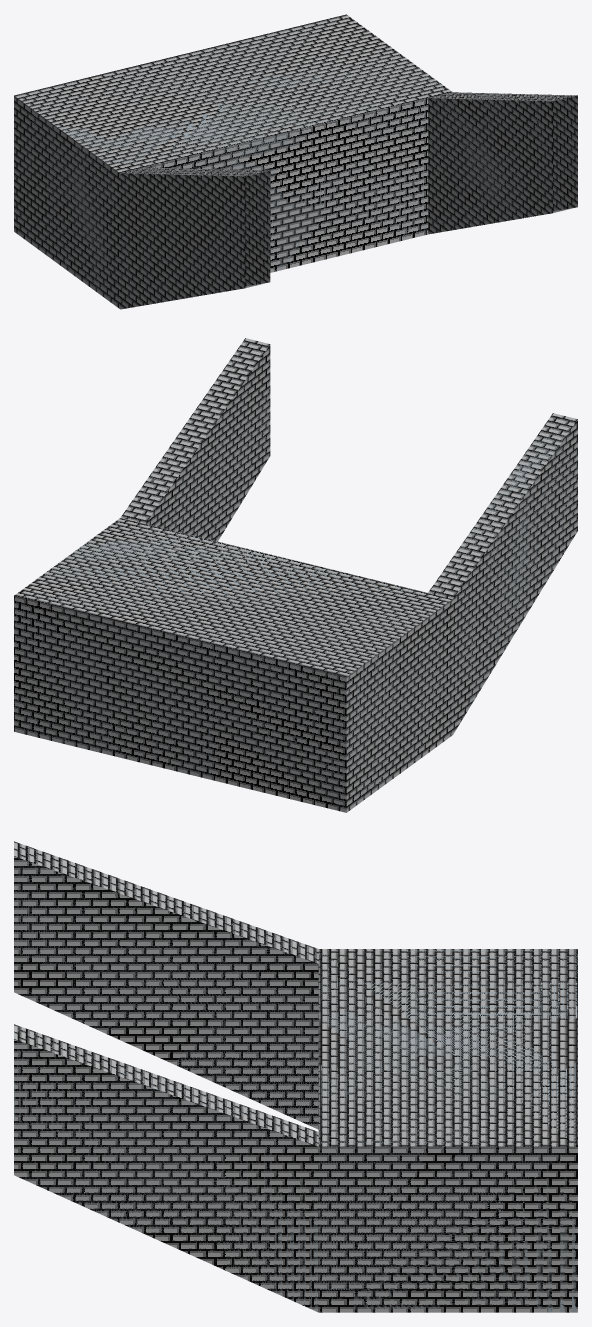
File: DungeonTravelRoom.dae
The picture shows the model from 3 angles, top to bottom: view 1: azimuth 30°, elevation 25°; view 2: azimuth 150°, elevation 25°; view 3: azimuth 270°, elevation 25°; orthographic projection. The views are drawn at different scales.
Visible parts, largest first — view 1: group_0; view 2: group_0; view 3: group_0.
Part boxes in pixels (x1=…): group_0: x1=14, y1=14, x2=577, y2=309; group_0: x1=14, y1=338, x2=577, y2=812; group_0: x1=14, y1=841, x2=577, y2=1312.
Size of the model in its own units: 523 by 630 by 337.
4 materials, 2 textured.
